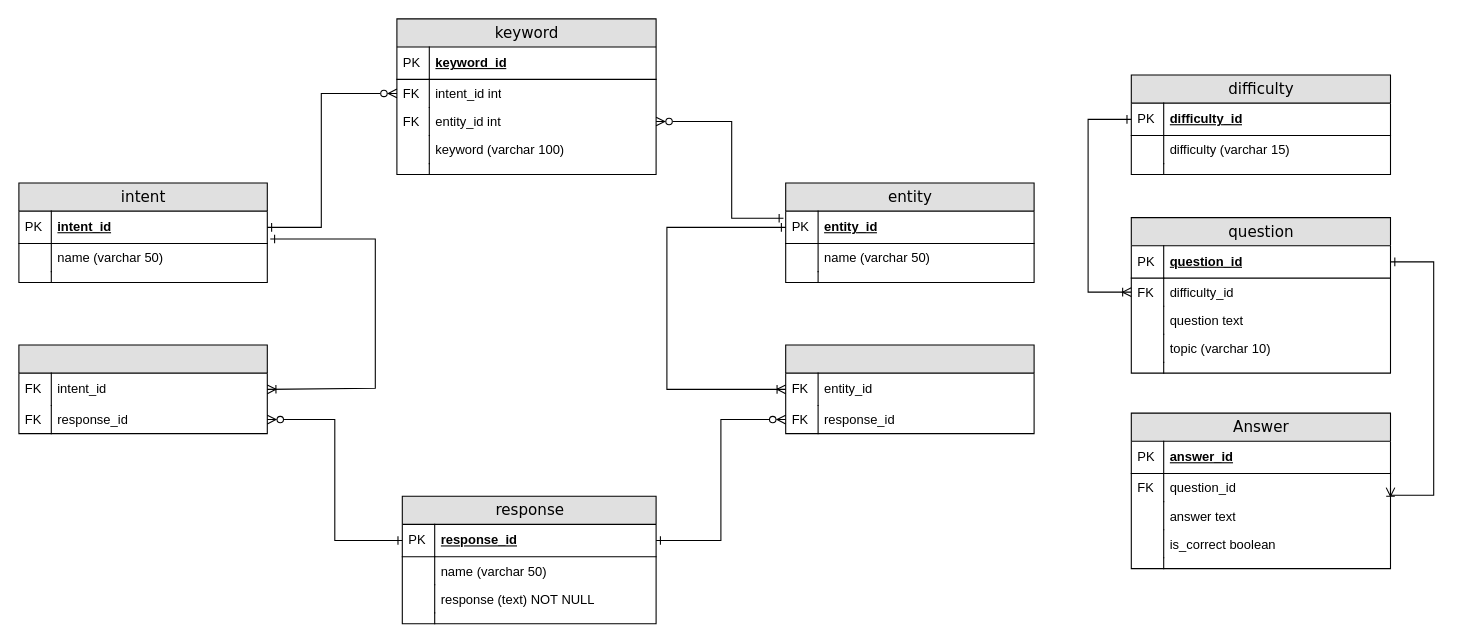
Some shapes in this 1462 by 643 pixel diagram are drawn without their labels. Each missing label, with the box of its shape:
entity_response: (785, 344, 1034, 434)
intent_response: (18, 344, 267, 434)
